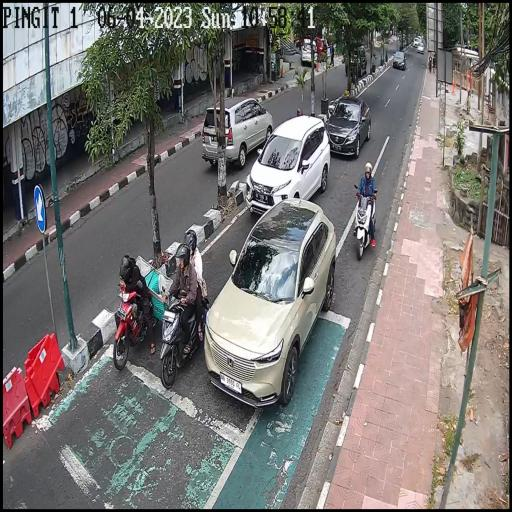mobil: (206, 190, 337, 408), (248, 112, 332, 210), (202, 89, 274, 168), (324, 92, 372, 159), (393, 49, 407, 73)
motor: (158, 280, 210, 388), (112, 280, 159, 371), (354, 182, 378, 261)
